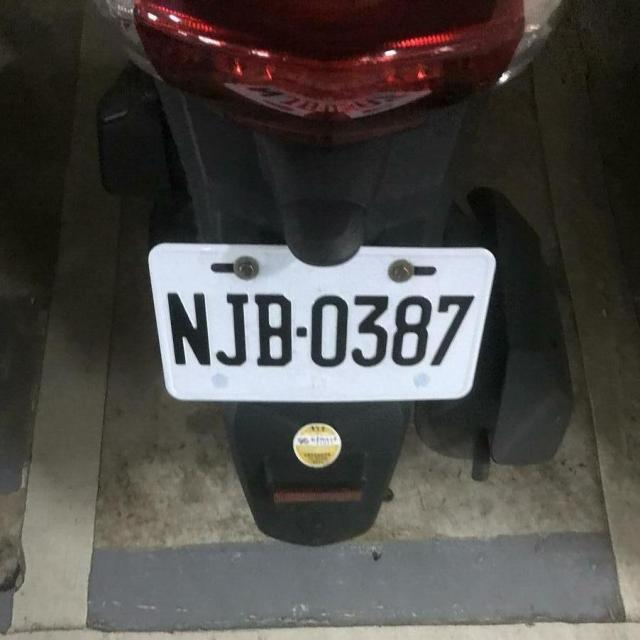W: (141, 231, 501, 413)
